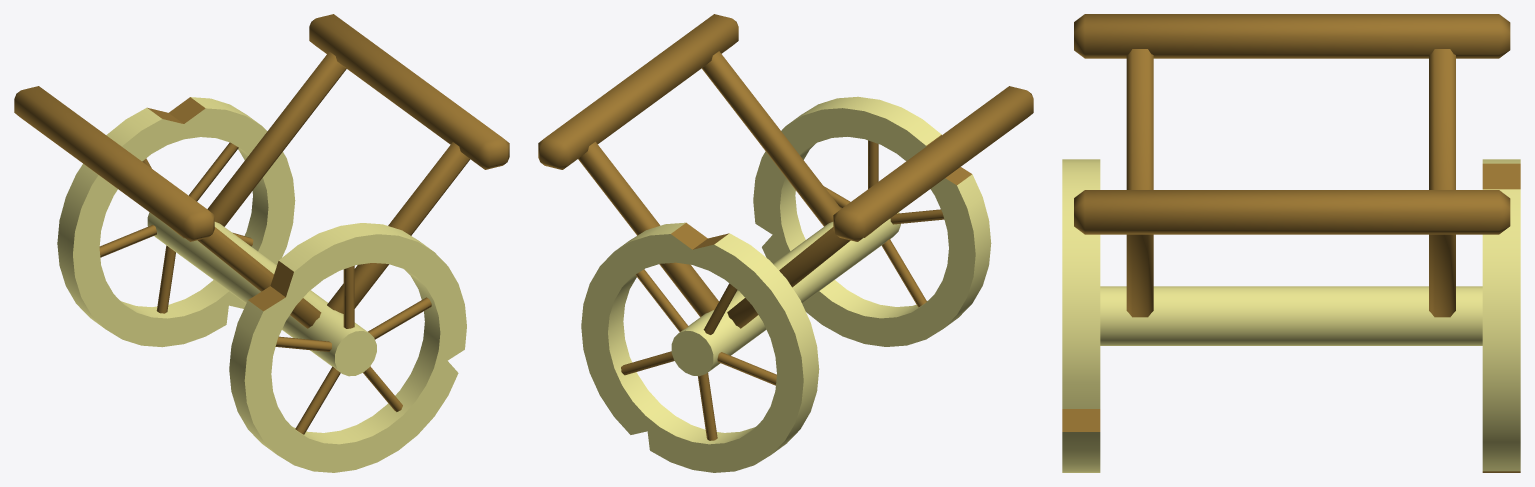
Rendered from wheels_wood_mid.fbx.
3 views of the same model, side by side, from view 1: azimuth 30°, elevation 25°; view 2: azimuth 150°, elevation 25°; view 3: azimuth 270°, elevation 25° (orthographic). The views are drawn at different scales.
Visible parts, largest first — view 1: wheels_wood_mid; view 2: wheels_wood_mid; view 3: wheels_wood_mid.
Part boxes in pixels (left/top/right/bottom): wheels_wood_mid: left=14, top=14, right=509, bottom=472; wheels_wood_mid: left=538, top=14, right=1033, bottom=472; wheels_wood_mid: left=1062, top=14, right=1520, bottom=472.
Bounding box in the file's own units: 199 × 168 × 199.
